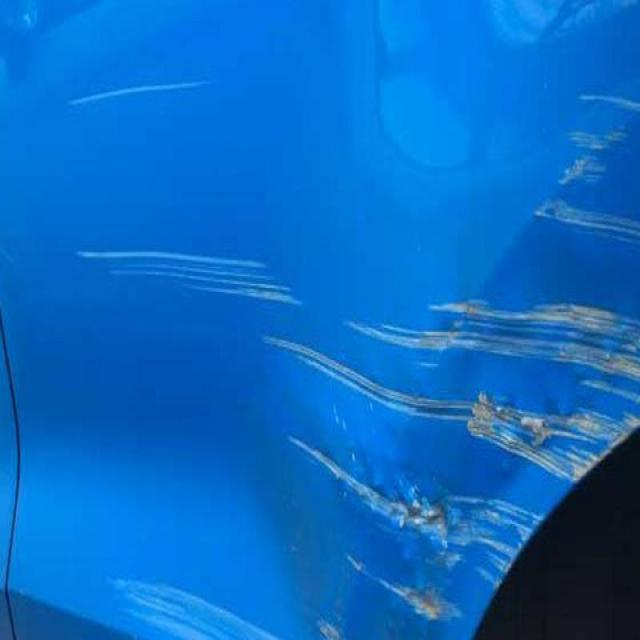scratch: (259, 288, 636, 640), (533, 55, 640, 253), (73, 239, 309, 325), (63, 62, 208, 125)
